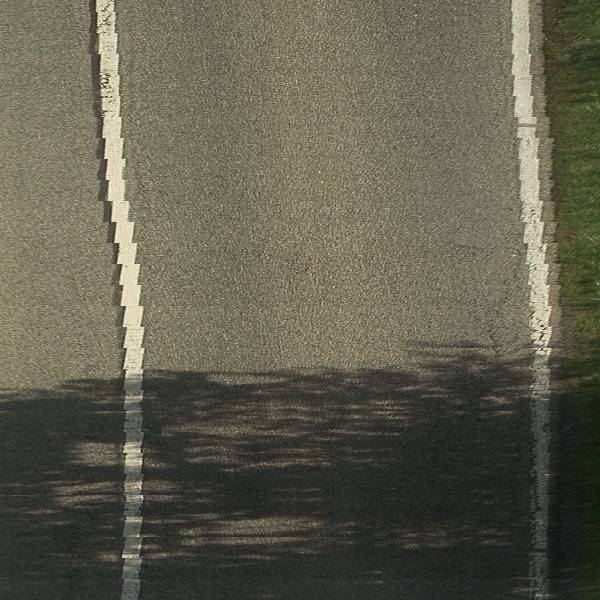road_damage: (471, 292, 512, 359)
